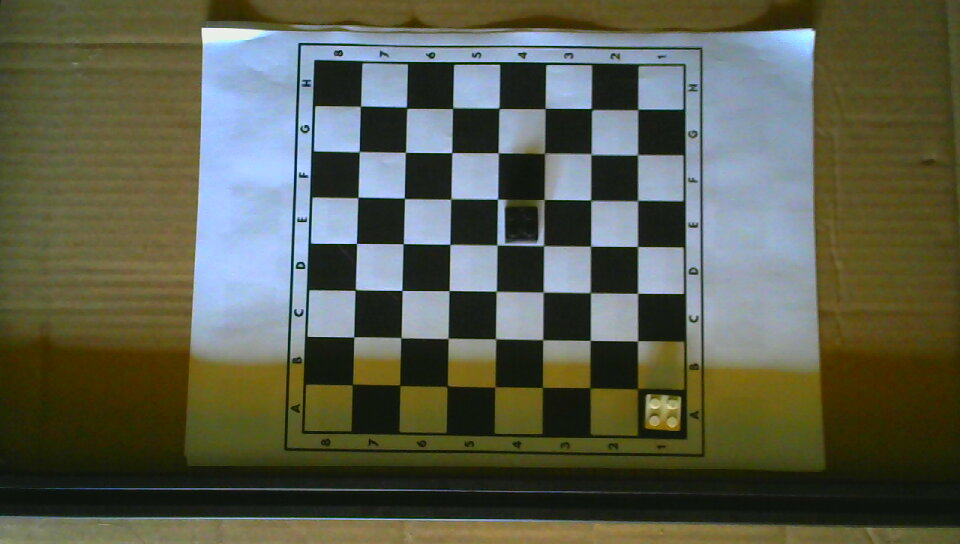bp: (502, 205, 540, 243)
wp: (643, 392, 681, 433)
